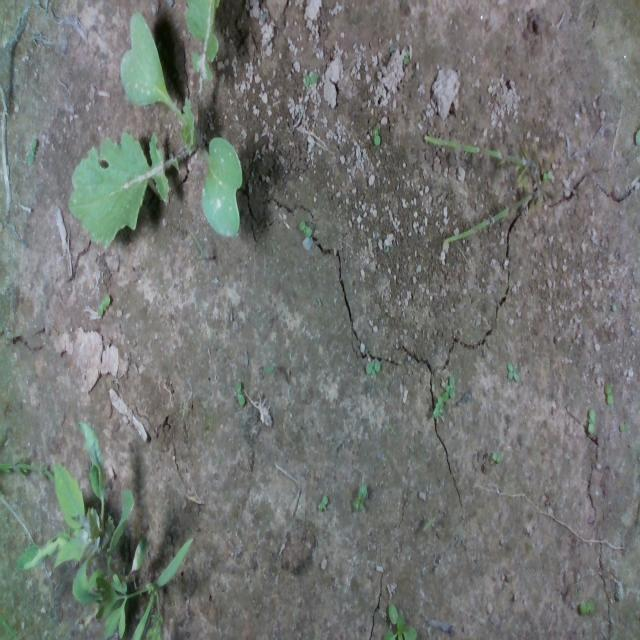weed: (504, 357, 524, 394), (233, 379, 251, 409), (363, 353, 383, 376), (602, 383, 616, 413), (298, 219, 316, 241), (584, 404, 596, 436), (372, 122, 382, 149), (317, 498, 328, 517)
